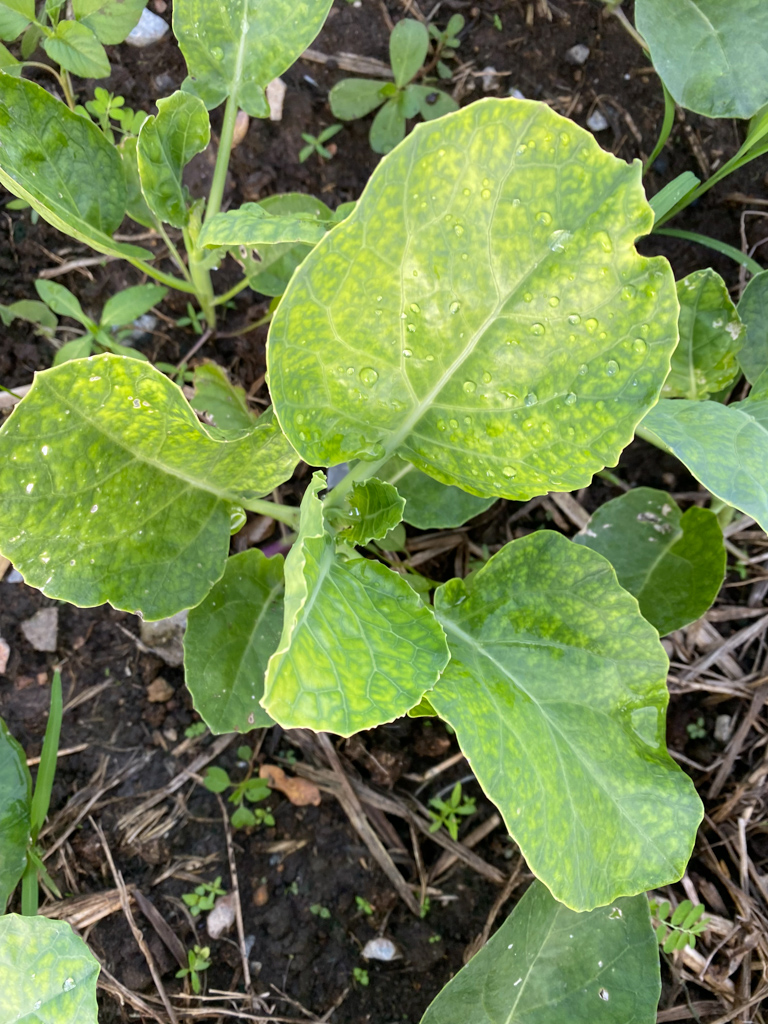Pepper yellow leaf: (277, 97, 668, 495), (1, 352, 267, 630), (261, 541, 423, 748)
